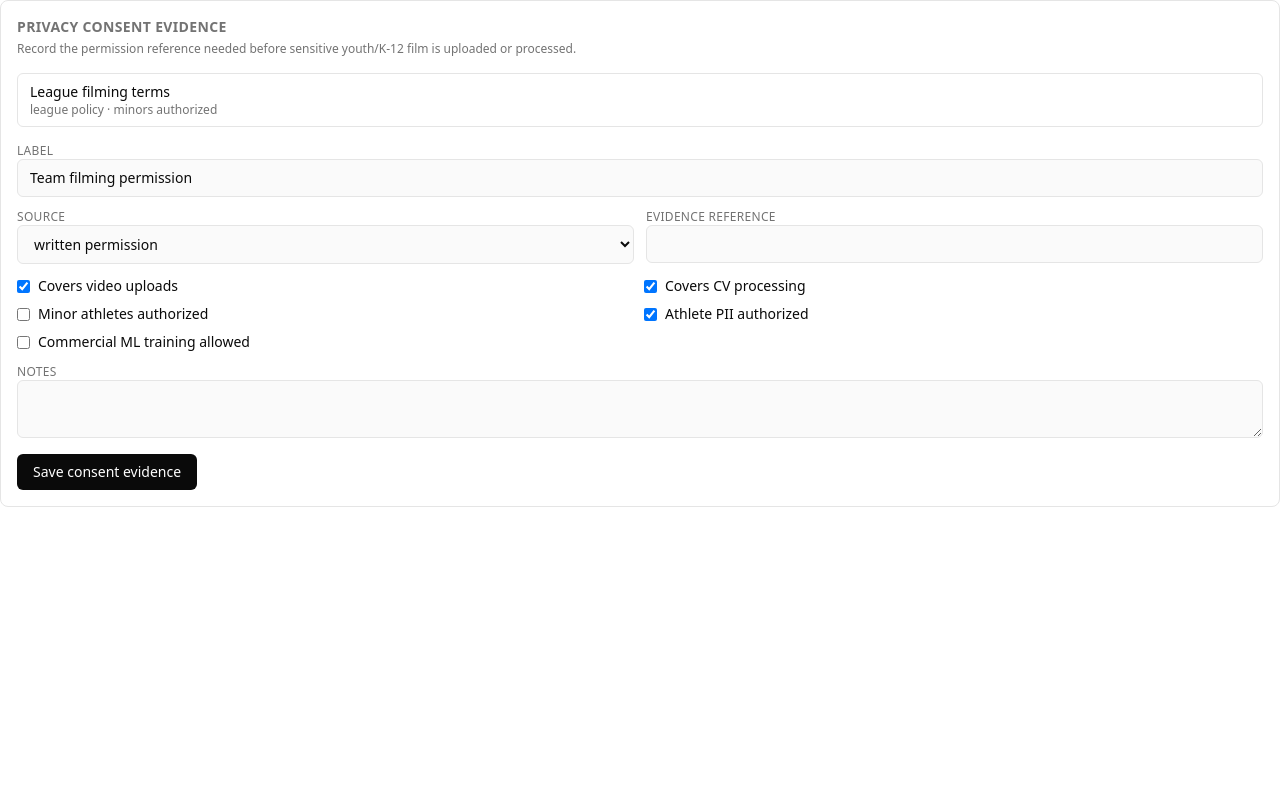
Test case: PrivacyConsentPanel › lists active consent evidence and records a new consent
Expected: the text "League filming terms" is shown, [30,82,170,101]
Replace the text in the field labelled "Label" with "Club tournament waiver". click: coordinates (640, 178)
box: [17,159,1263,197]
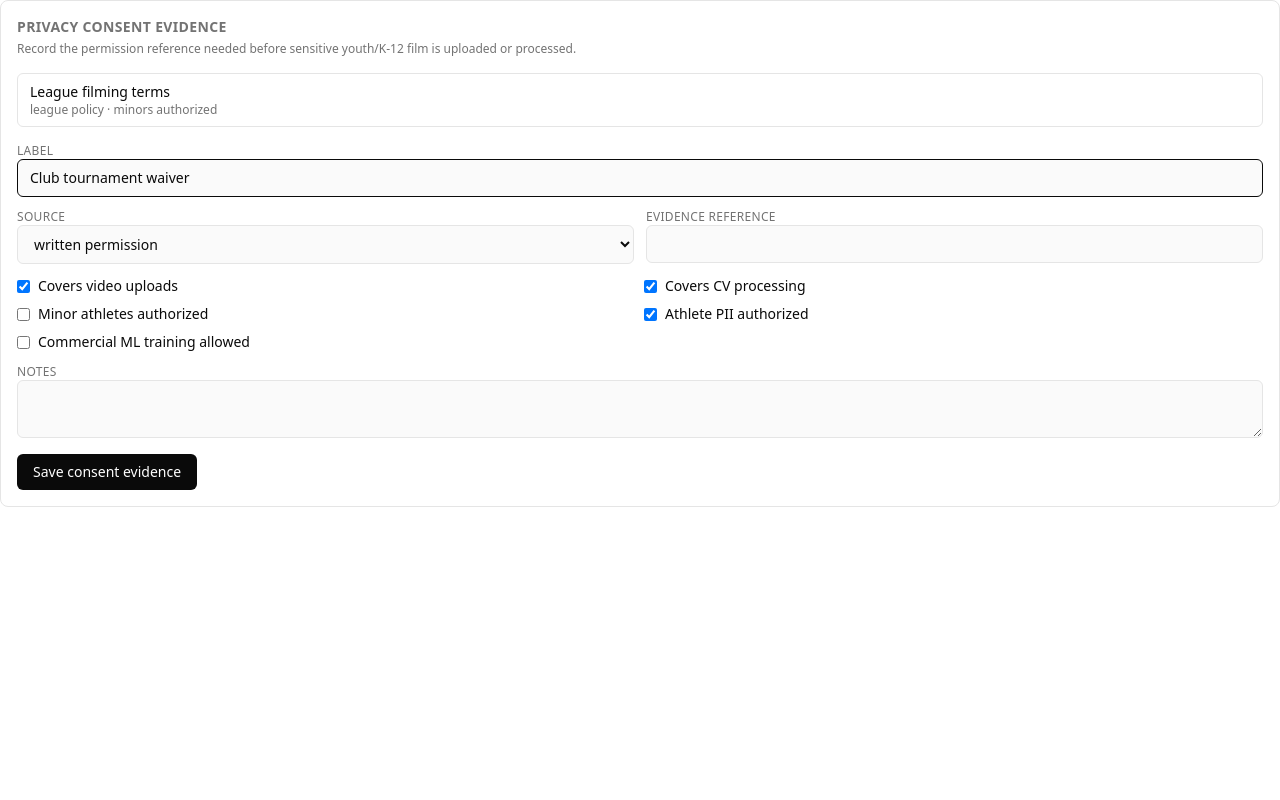
Type "r2://evidence/tournament-waiver.pdf" into the field labelled "Evidence reference". click: coordinates (954, 244)
box: [646,225,1263,263]
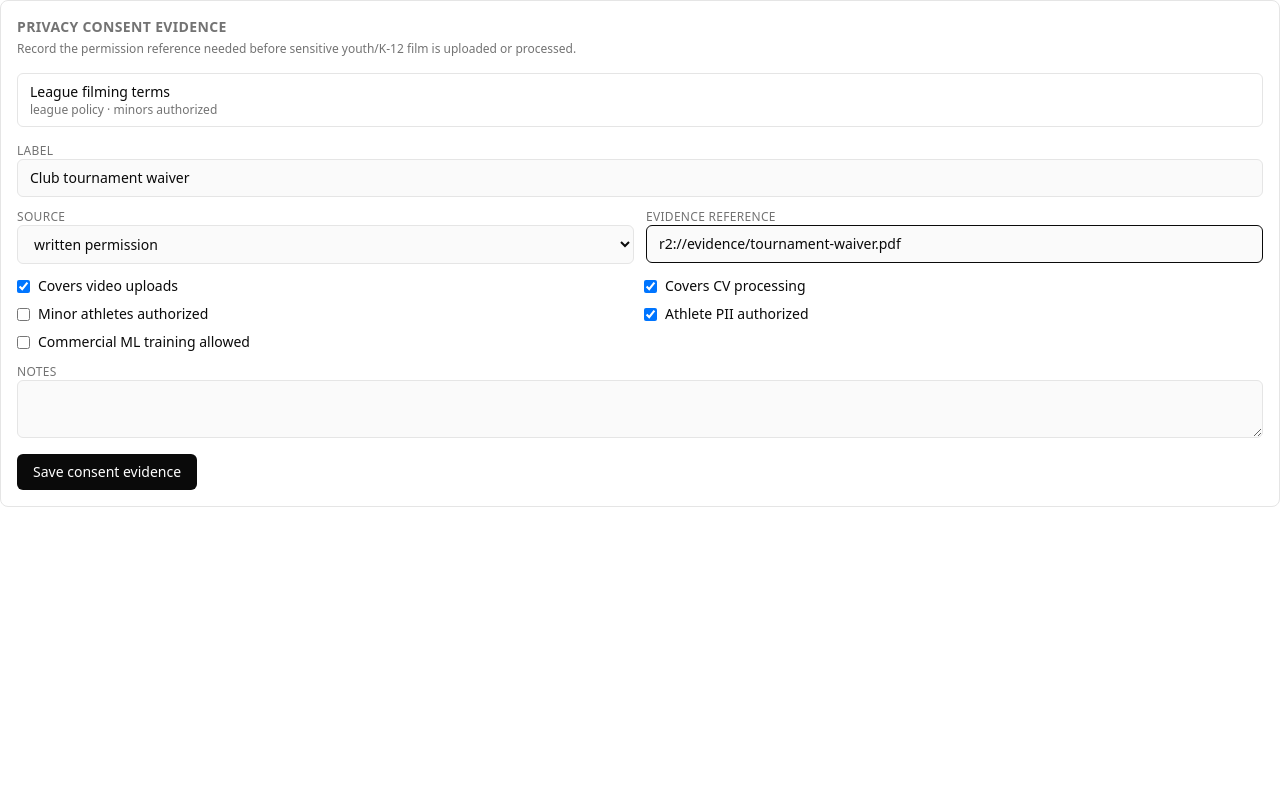
Click the checkbox labelled "Minor athletes authorized". click: coordinates (24, 314)
box: [17,308,30,320]
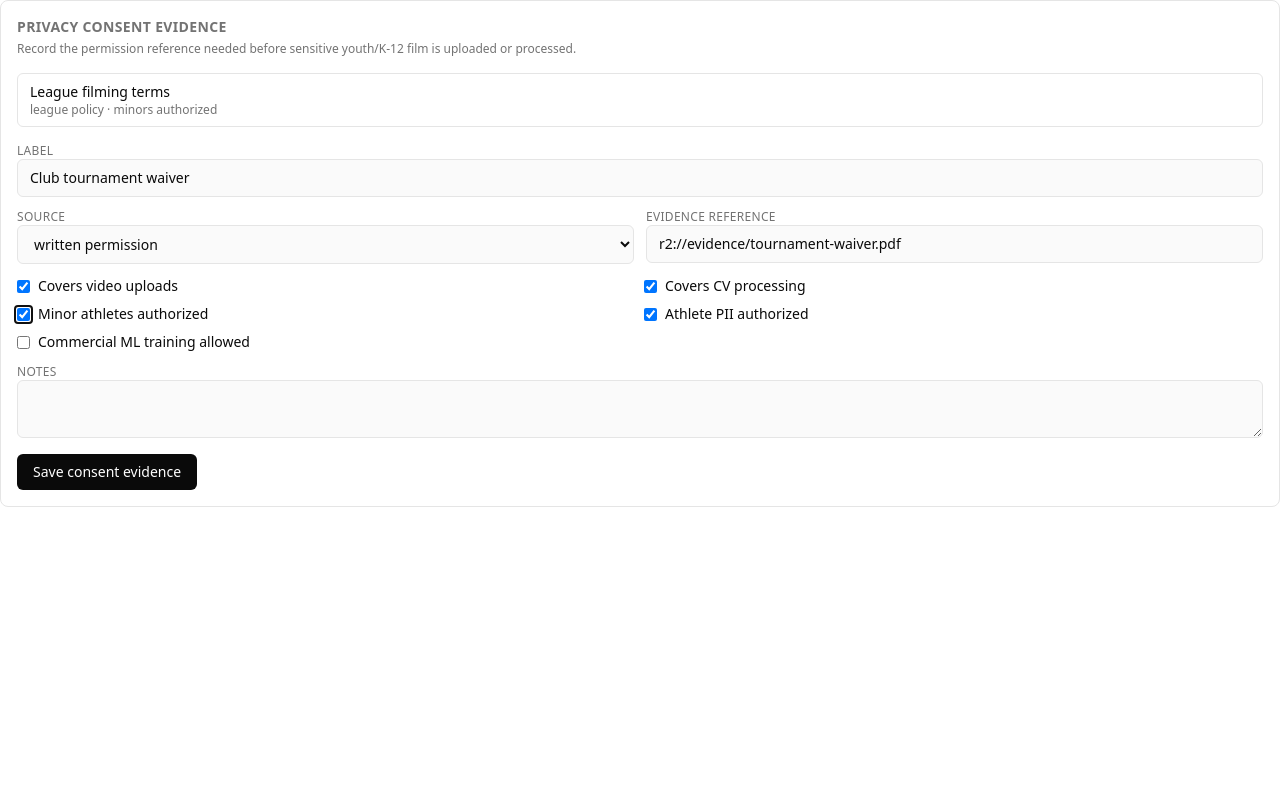
Click the button "Save consent evidence". click: coordinates (107, 472)
box: [17,454,197,490]
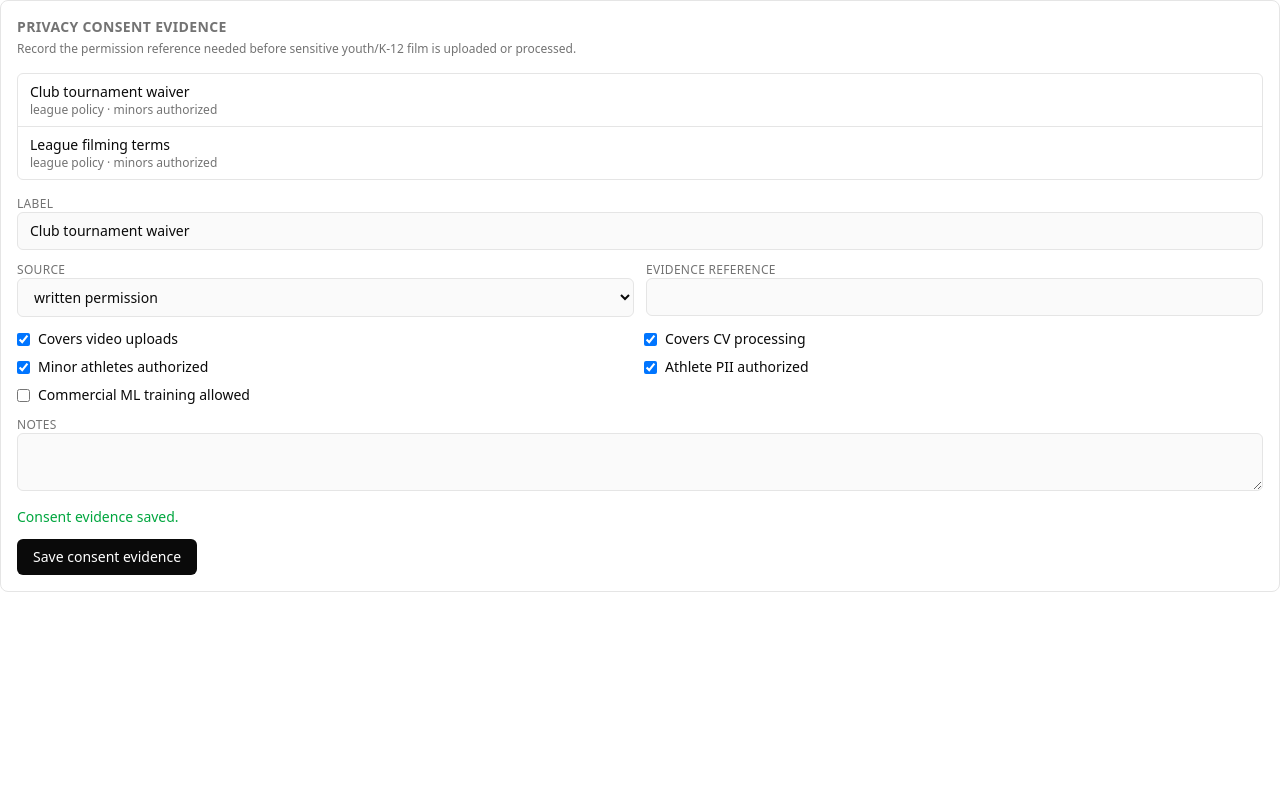
Expected: the message shows "saved", [17,507,179,526]
